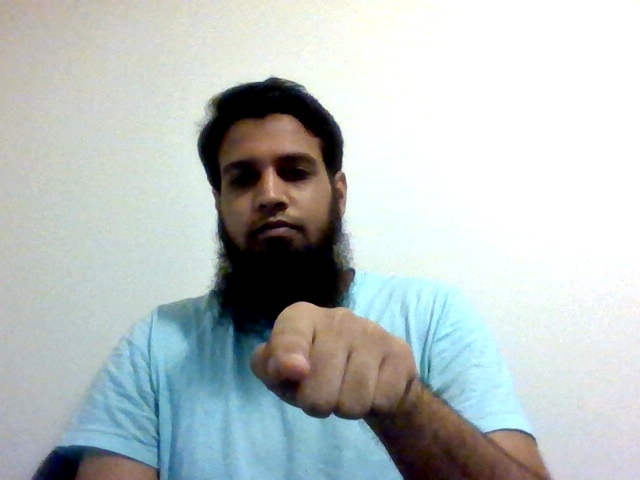you: (247, 297, 416, 422)
